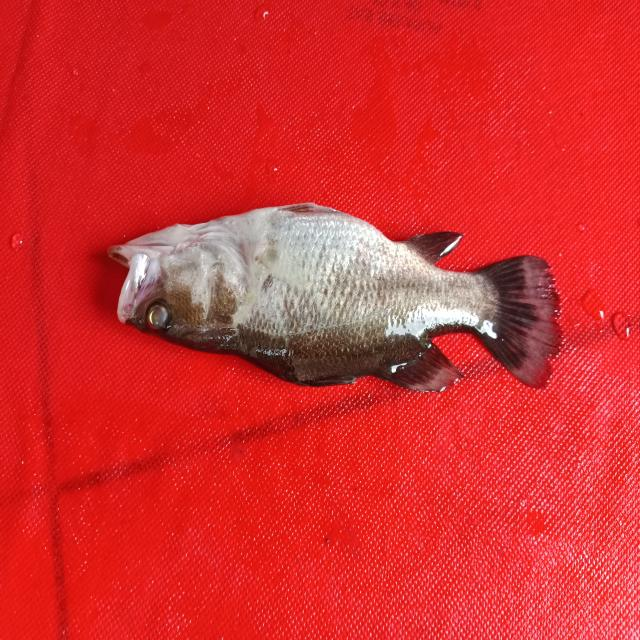ikan: (95, 184, 592, 424)
